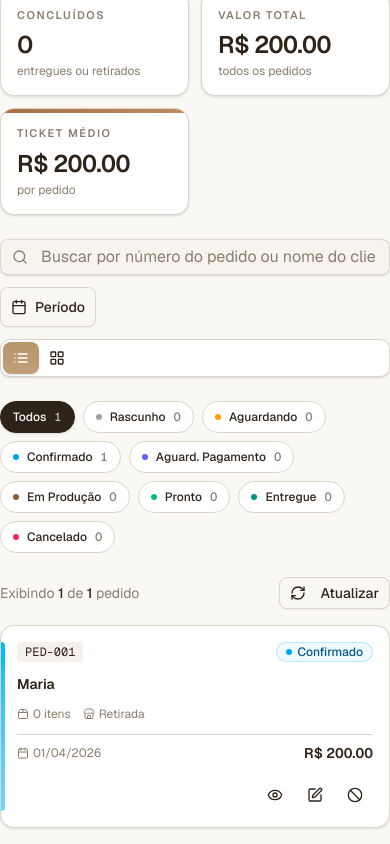
Test: PedidoList — cancel/delete action gating › opens the cancel dialog when the cancel action is clicked
(page scrolled)
Click the button named "Cancelar pedido" at (355, 794), box [337,778,373,810]
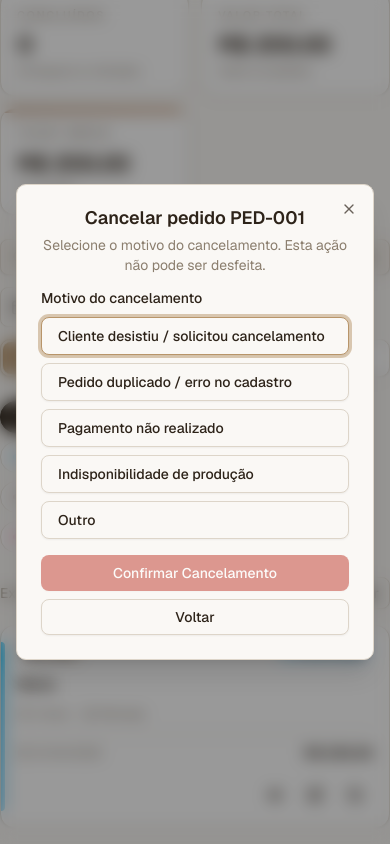
Now the heading "Cancelar pedido PED-001" is shown, box [85,206,305,229]
Now the button "Confirmar Cancelamento" is shown, box [41,555,349,591]
